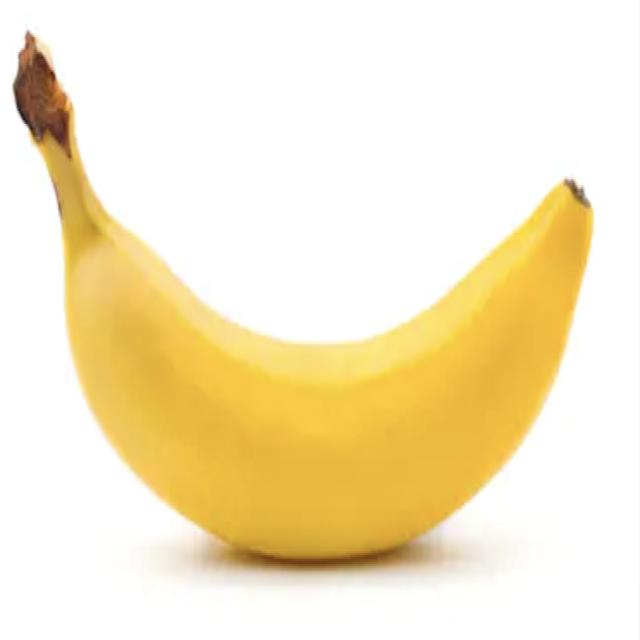fresh-banana: (12, 26, 594, 562)
